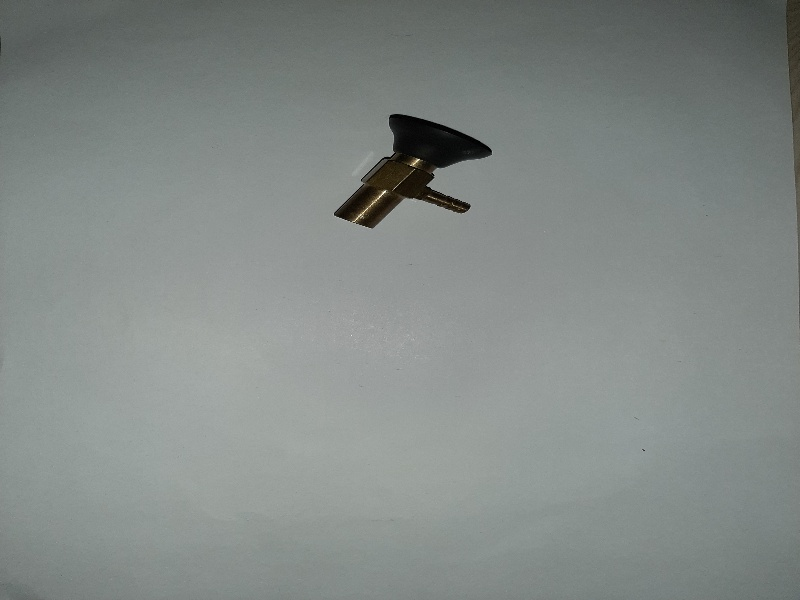Joint Hold: (335, 106, 496, 241)
